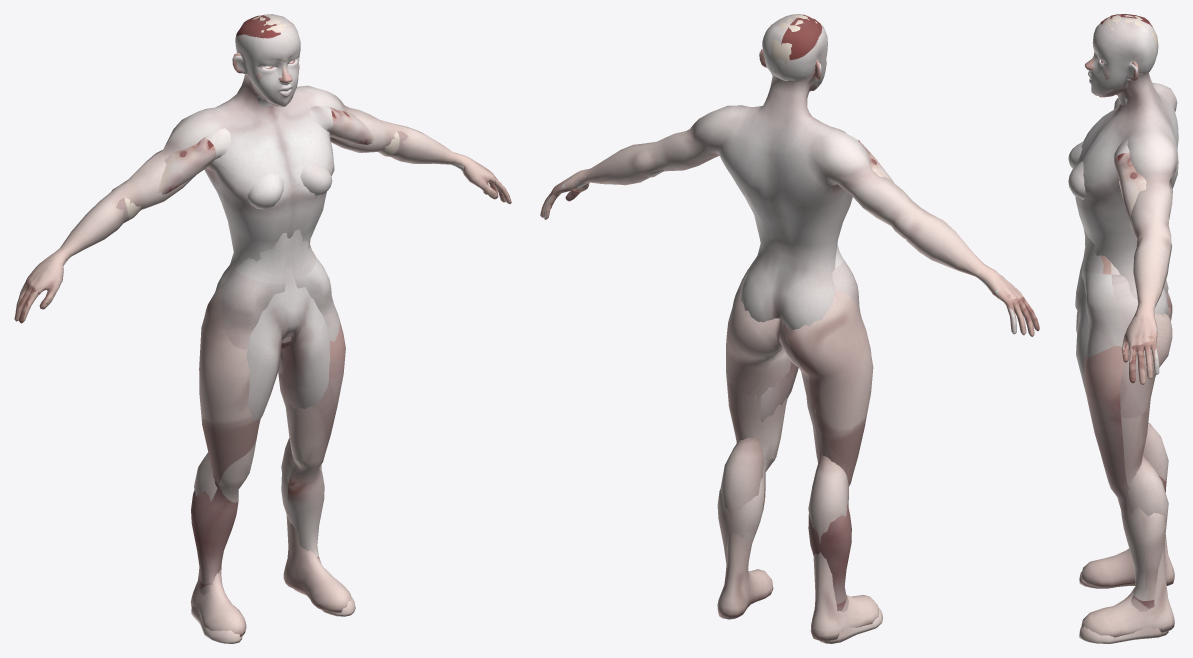
File: PERSONAJES_FIN.fbx_CUERPOS_BASE.fbx
3 renders of one model, left to right at view 1: azimuth 30°, elevation 25°; view 2: azimuth 150°, elevation 25°; view 3: azimuth 270°, elevation 25°, orthographic.
Parts seen in each view (by area): view 1: BASE_M, BASE_F; view 2: BASE_M, BASE_F; view 3: BASE_M, BASE_F.
Part boxes in pixels (x1,y1,x2,y2): BASE_M: (18, 14, 510, 636); BASE_F: (14, 14, 511, 643); BASE_M: (543, 14, 1034, 641); BASE_F: (540, 14, 1039, 643); BASE_M: (1073, 15, 1178, 637); BASE_F: (1068, 14, 1172, 643).
Size of the model in its own units: 148 by 171 by 28.8.
